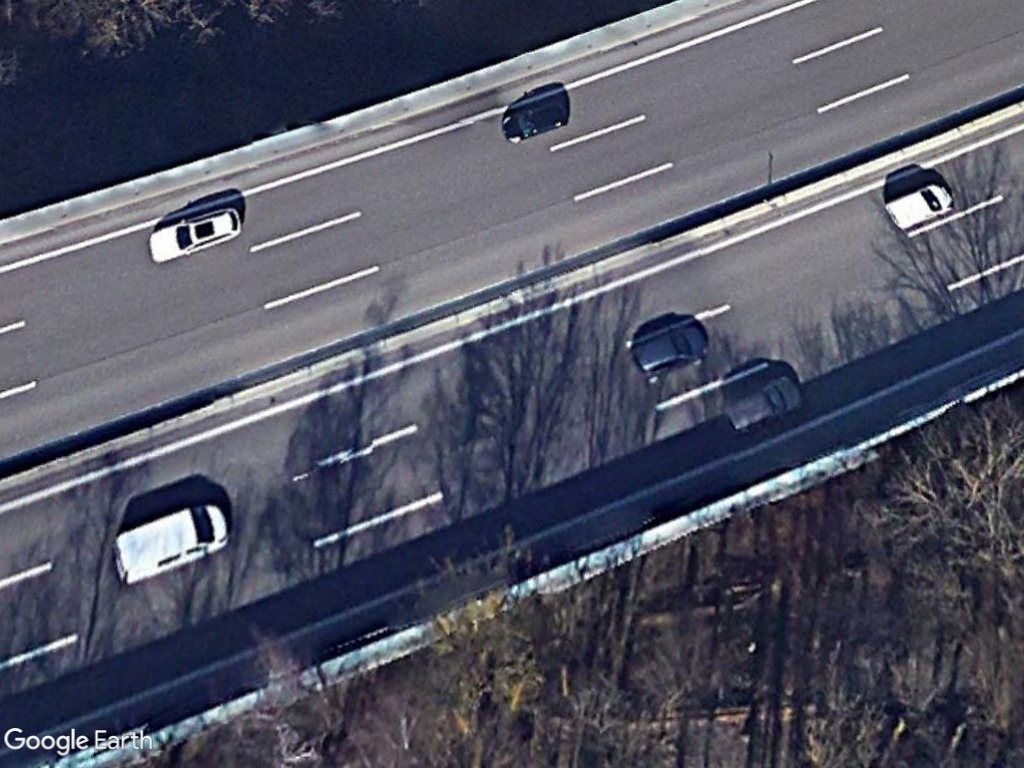car: (144, 205, 244, 264), (722, 373, 803, 435), (633, 322, 709, 380)
van: (111, 498, 232, 587), (881, 179, 958, 234)
